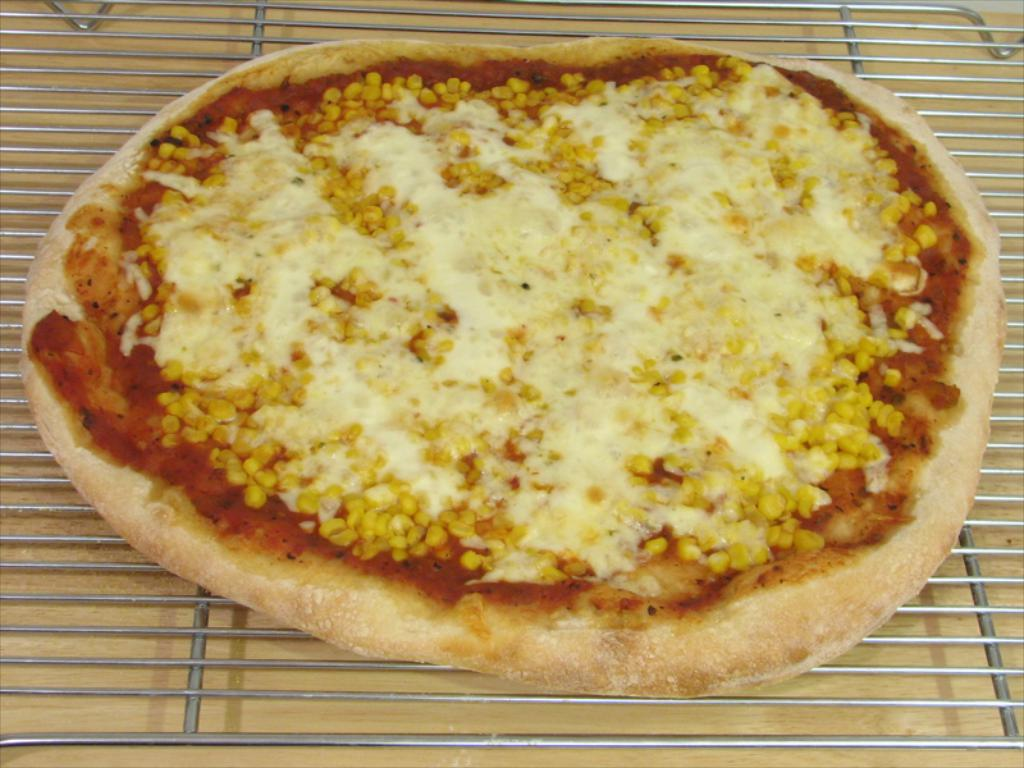Pizza: (0, 29, 968, 709)
